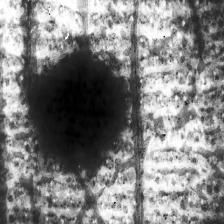Benign Marking or Mole: (31, 64, 115, 158)
